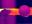Hotspot: (0, 9, 19, 13), (0, 9, 3, 12)
